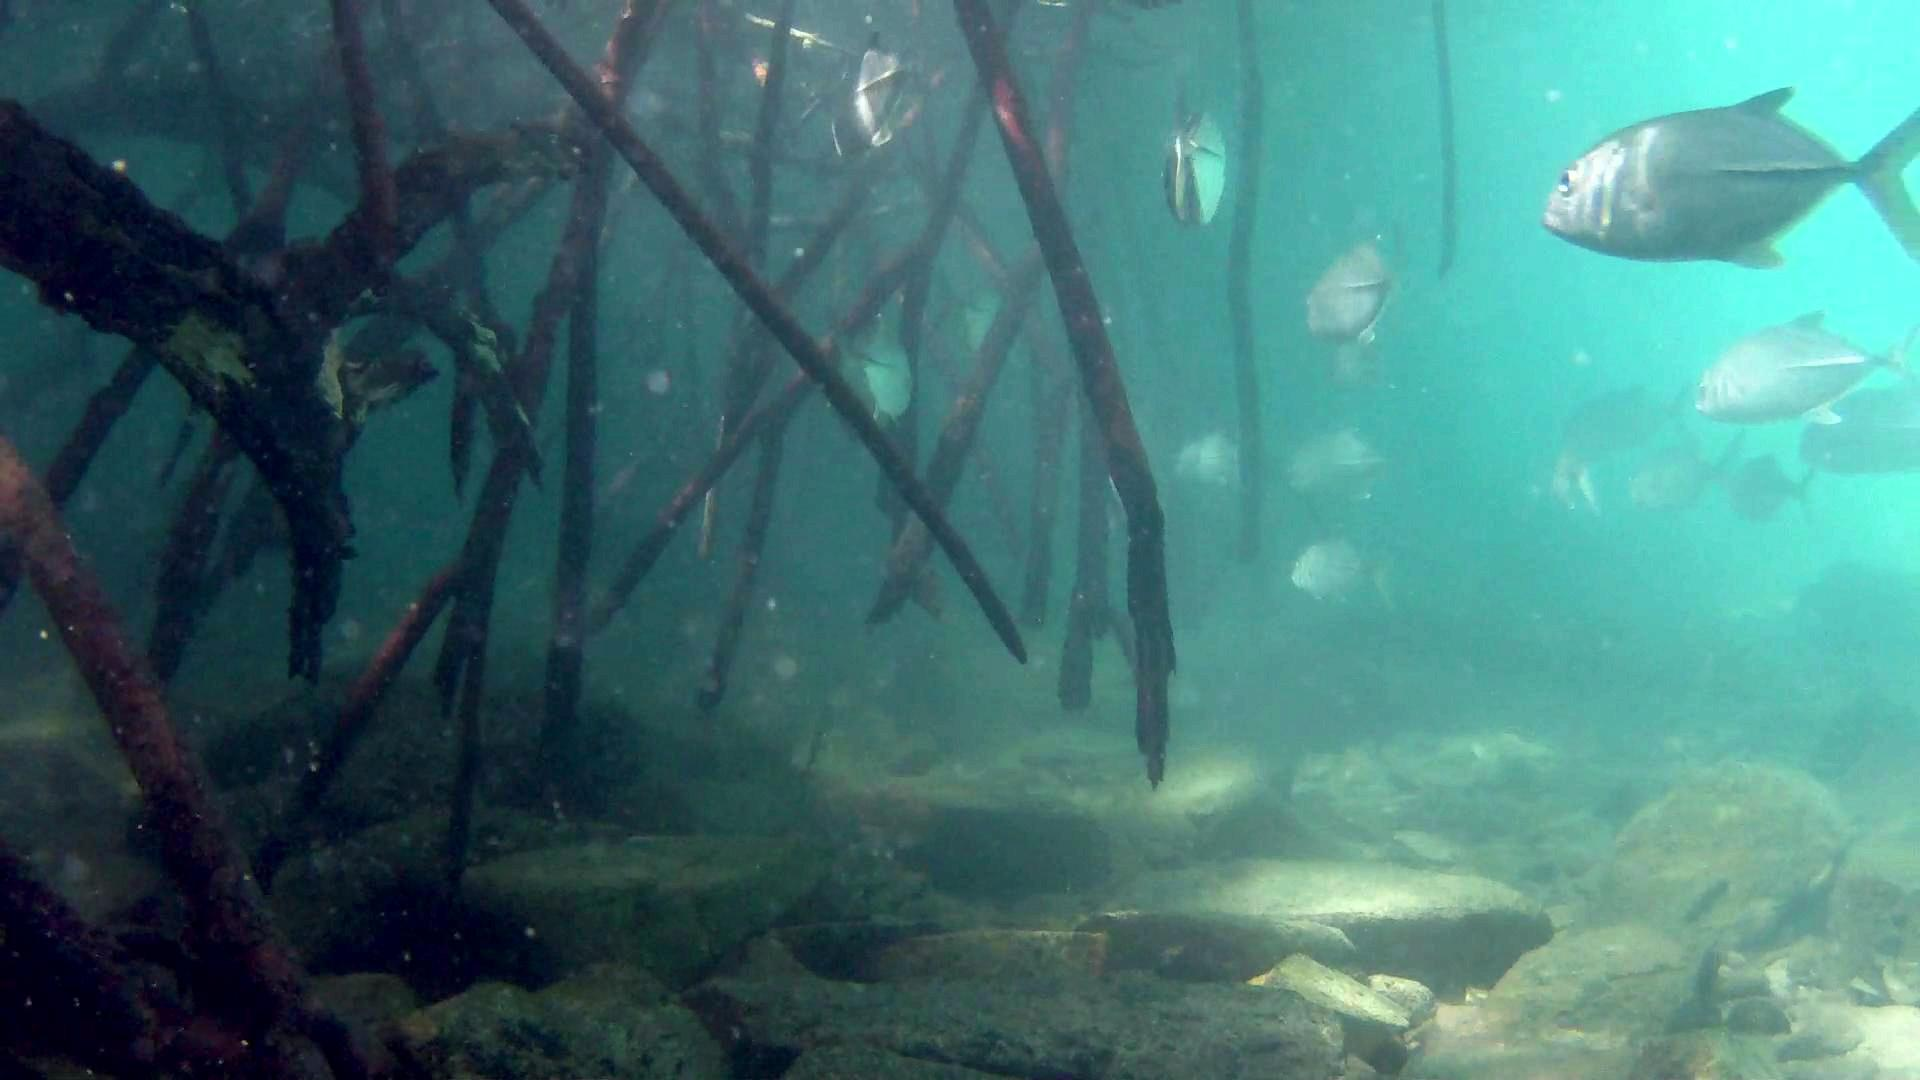caranx: (1525, 73, 1920, 277)
